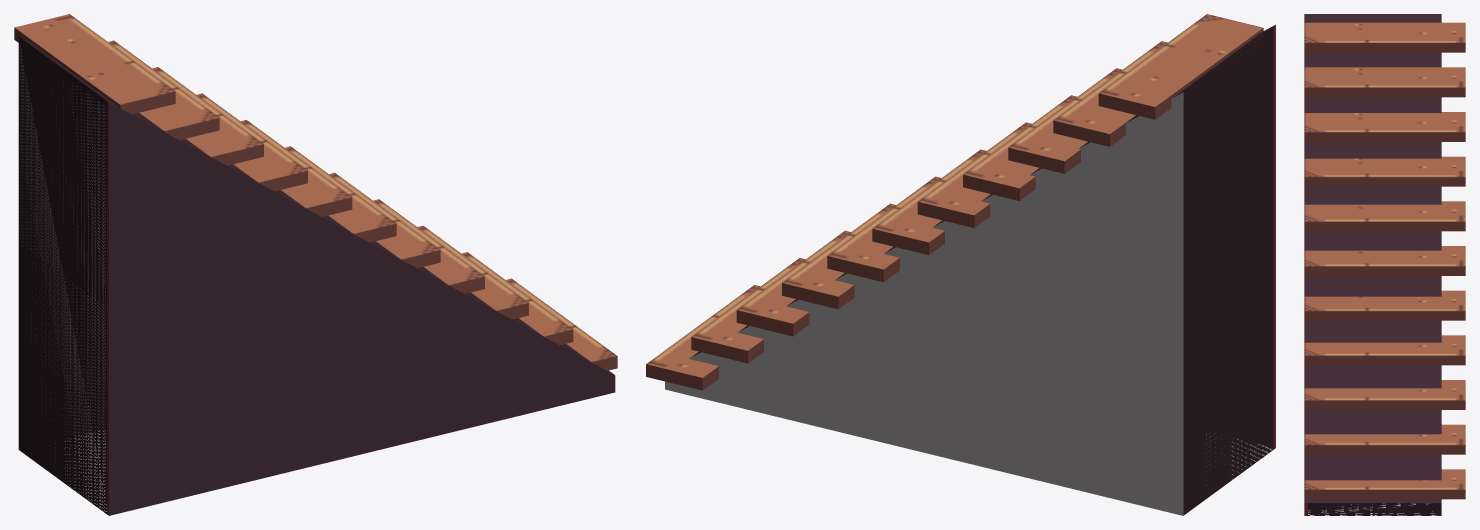
Rendered from Escada.fbx.
3 views of the same model, side by side, from view 1: azimuth 30°, elevation 25°; view 2: azimuth 150°, elevation 25°; view 3: azimuth 270°, elevation 25° (orthographic). The views are drawn at different scales.
Visible parts, largest first — view 1: Plane.036; view 2: Plane.036; view 3: Plane.036.
Boxes of the visible parts, x1=… form: Plane.036: x1=14, y1=14, x2=617, y2=515; Plane.036: x1=646, y1=14, x2=1275, y2=515; Plane.036: x1=1304, y1=14, x2=1465, y2=515.
Size of the model in its own units: 278 by 101 by 216.
